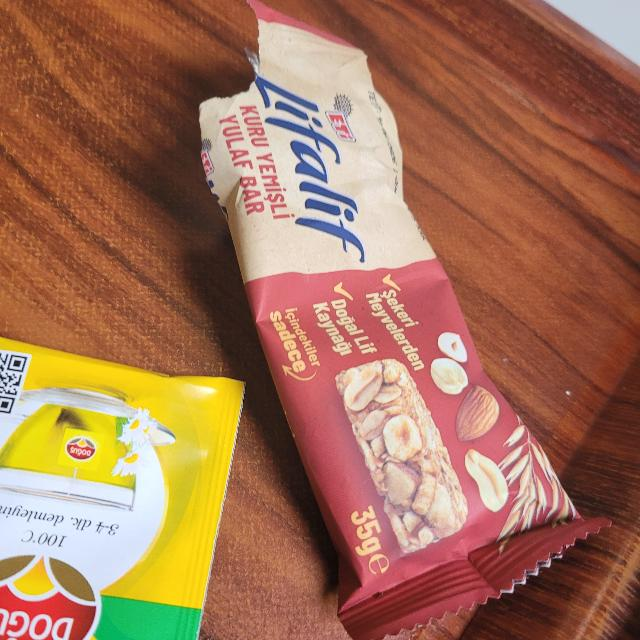Kagit: (0, 336, 247, 640)
Plastik: (196, 5, 612, 622)
